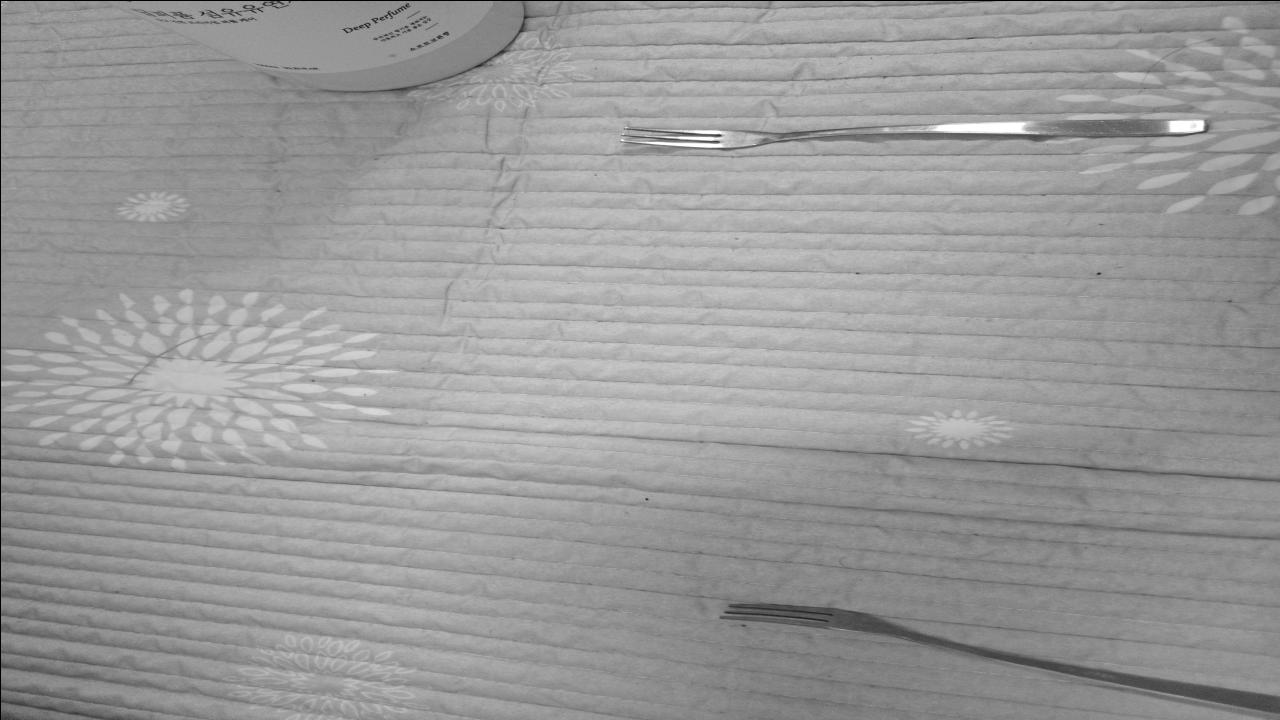fork: (723, 600, 1276, 719), (624, 116, 1200, 148)
